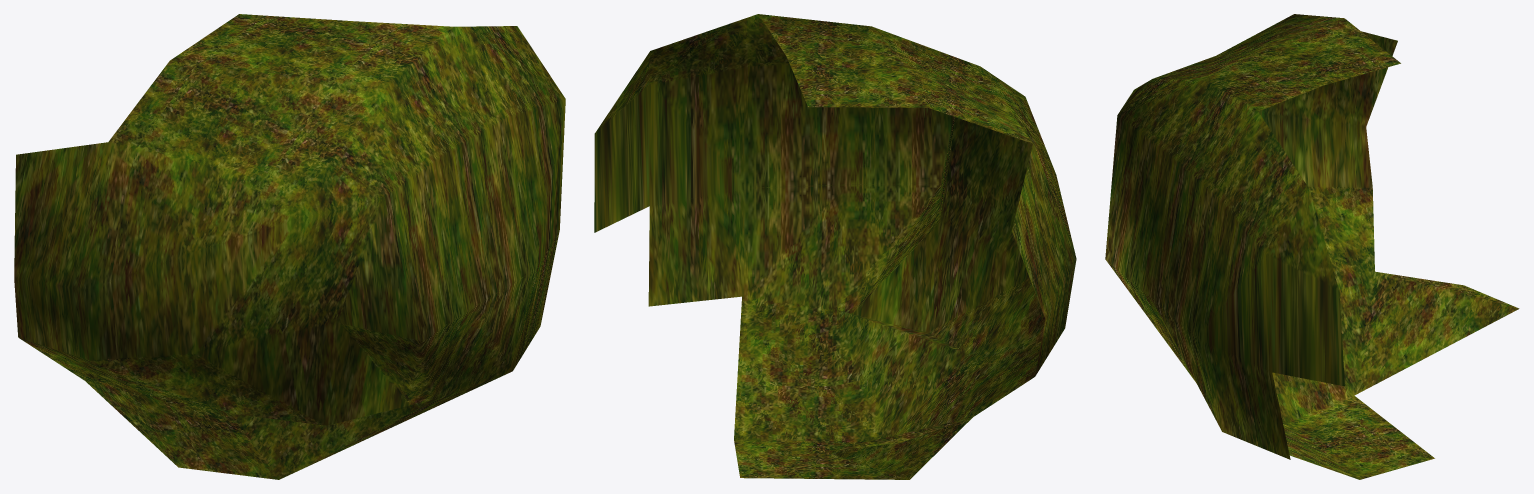
Rendered from TROLLHOLE02_RM_PSURF133.fbx.
3 renders of one model, left to right at view 1: azimuth 30°, elevation 25°; view 2: azimuth 150°, elevation 25°; view 3: azimuth 270°, elevation 25°, orthographic. The views are drawn at different scales.
Parts seen in each view (by area): view 1: TROLLHOLE02_RM_PSURF133; view 2: TROLLHOLE02_RM_PSURF133; view 3: TROLLHOLE02_RM_PSURF133.
Part boxes in pixels (bbox=[...]): TROLLHOLE02_RM_PSURF133: bbox=[14, 14, 565, 479]; TROLLHOLE02_RM_PSURF133: bbox=[594, 14, 1076, 479]; TROLLHOLE02_RM_PSURF133: bbox=[1105, 14, 1519, 479].
Bounding box in the file's own units: 79215 × 62302 × 61343.
Materials: 1 (1 with a texture image).
